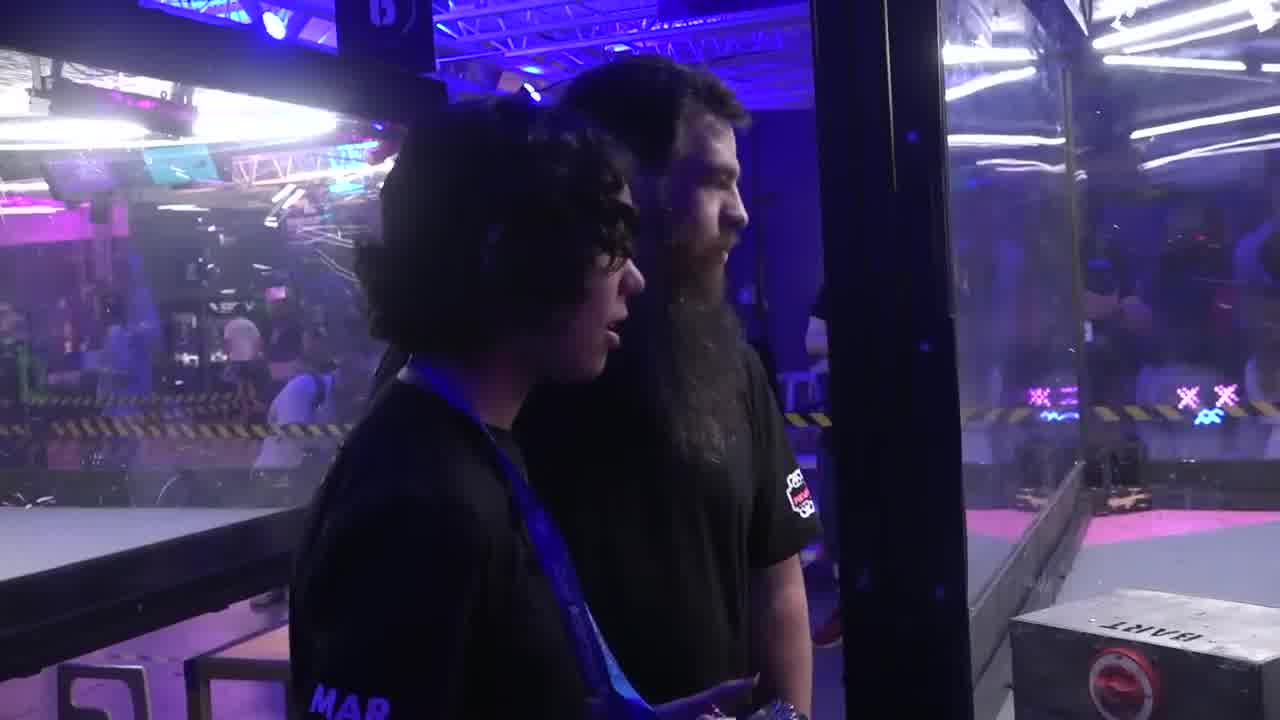housebot: (1010, 585, 1280, 720)
